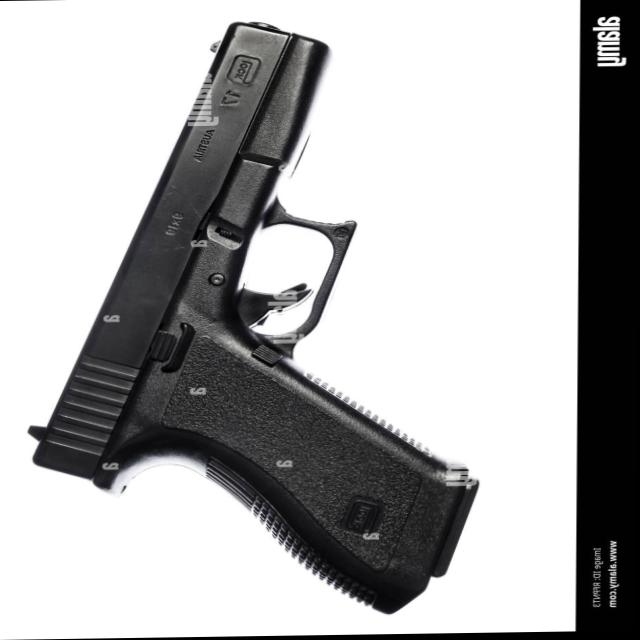handgun: (25, 19, 495, 618)
